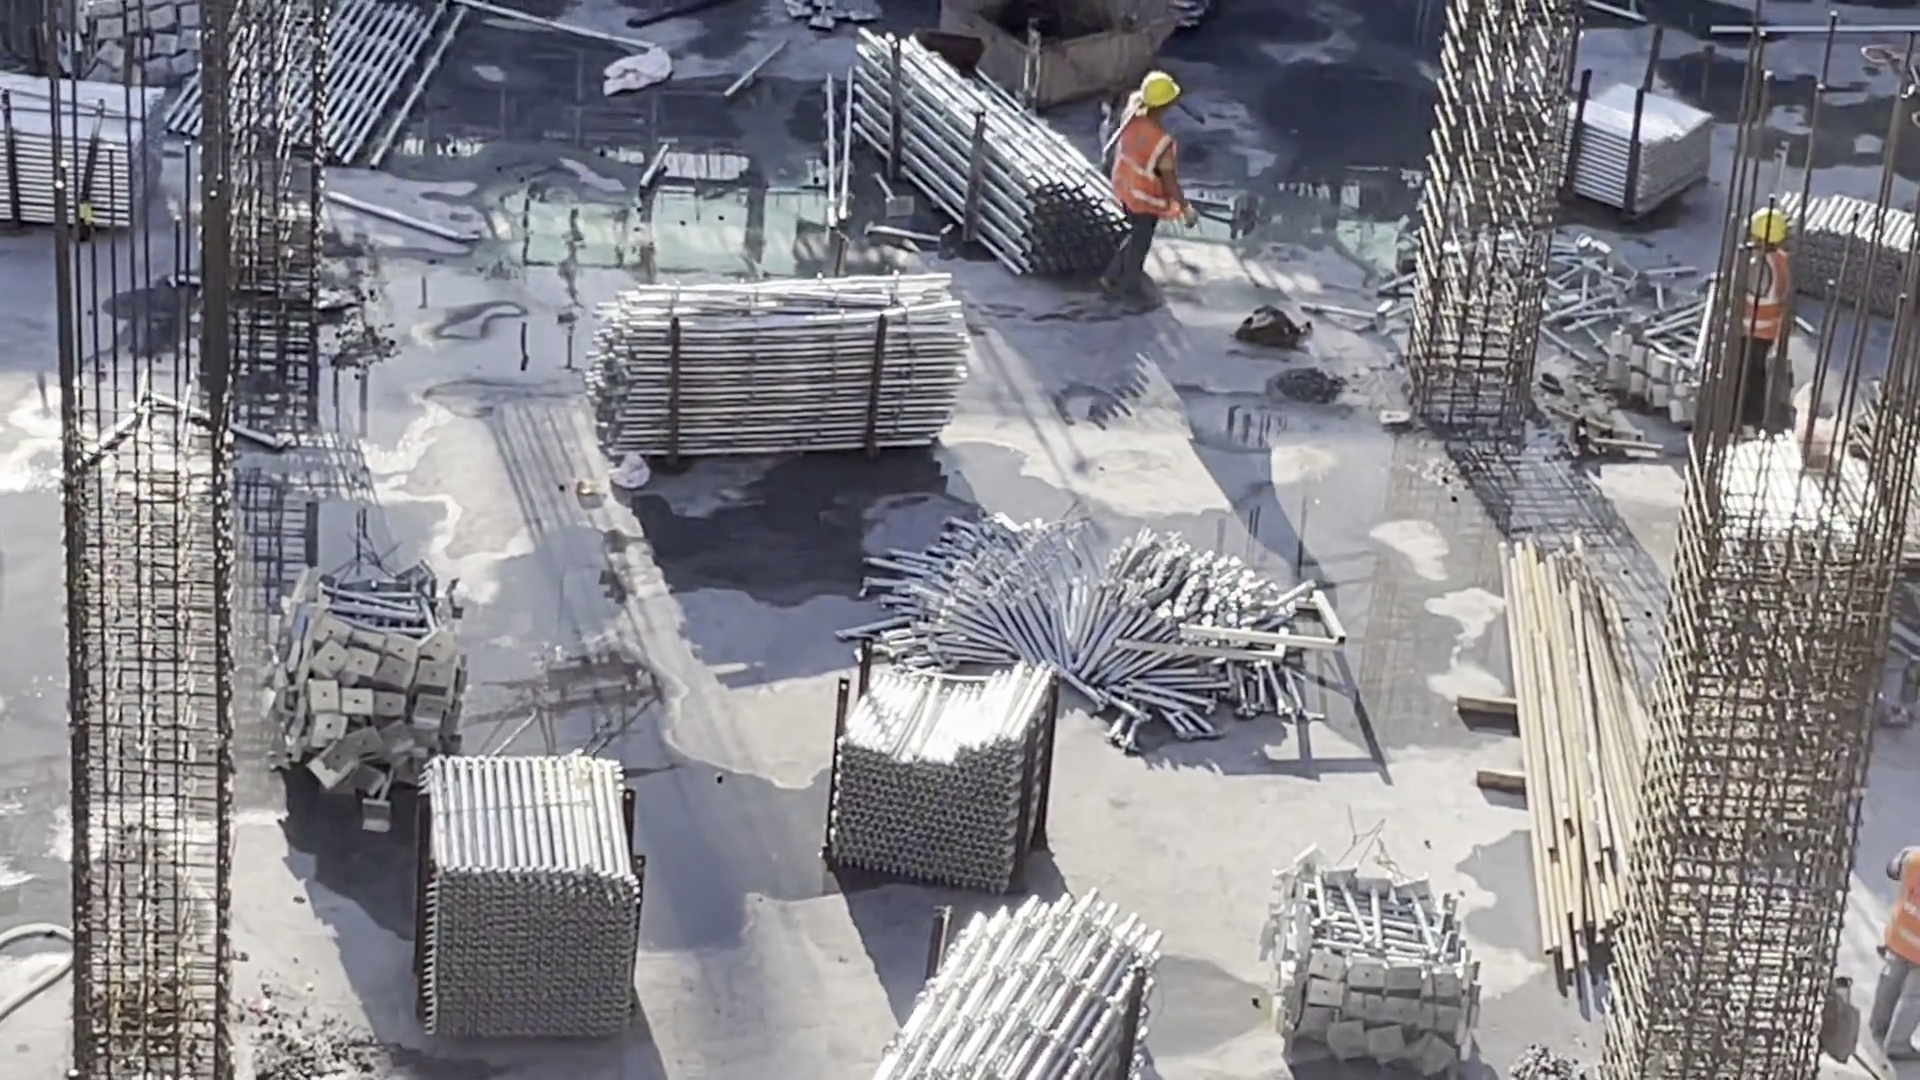helmet: (1136, 71, 1178, 120), (1754, 202, 1793, 253)
hopper: (938, 1, 1180, 87)
person: (1095, 58, 1189, 300), (1724, 201, 1798, 431), (1869, 812, 1920, 1070)
scaffold: (869, 494, 1334, 721), (401, 731, 676, 1041), (561, 260, 968, 468), (840, 21, 1144, 281), (242, 547, 469, 792), (832, 649, 1059, 892), (863, 890, 1145, 1080), (1259, 859, 1483, 1068), (1, 67, 183, 236), (1562, 60, 1724, 214), (1619, 249, 1753, 419), (1799, 187, 1920, 306)
vest: (1101, 125, 1175, 215), (1737, 253, 1795, 348), (1882, 856, 1920, 967)
